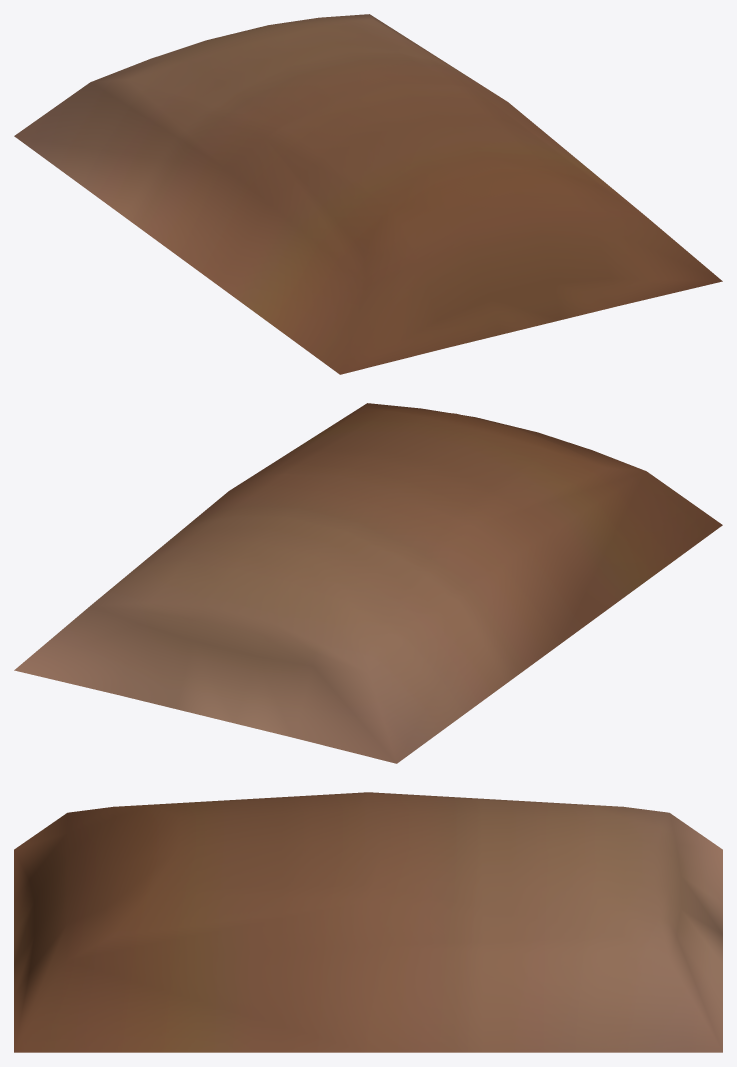
File: HillDirt.glb
3 views of the same model, one above another, from view 1: azimuth 30°, elevation 25°; view 2: azimuth 150°, elevation 25°; view 3: azimuth 270°, elevation 25° (orthographic). The views are drawn at different scales.
Parts seen in each view (by area): view 1: HillDirt; view 2: HillDirt; view 3: HillDirt.
Part boxes in pixels (left/top/right/bottom): HillDirt: left=14, top=14, right=722, bottom=374; HillDirt: left=14, top=403, right=722, bottom=763; HillDirt: left=14, top=792, right=722, bottom=1052.
Size of the model in its own units: 9 by 2.56 by 13.28.
Materials: 1 (1 with a texture image).
